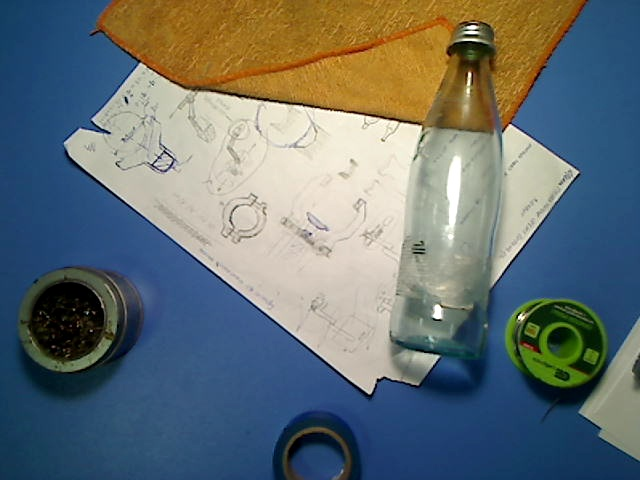bottle: (387, 19, 504, 362)
